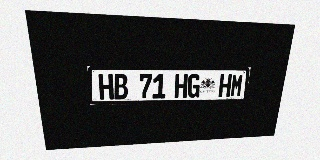1: (152, 74, 166, 99)
7: (139, 74, 152, 99)
B: (113, 74, 128, 99)
G: (187, 74, 201, 98)
H: (98, 74, 114, 100), (174, 74, 188, 98), (218, 74, 232, 97)
M: (230, 74, 244, 97)
